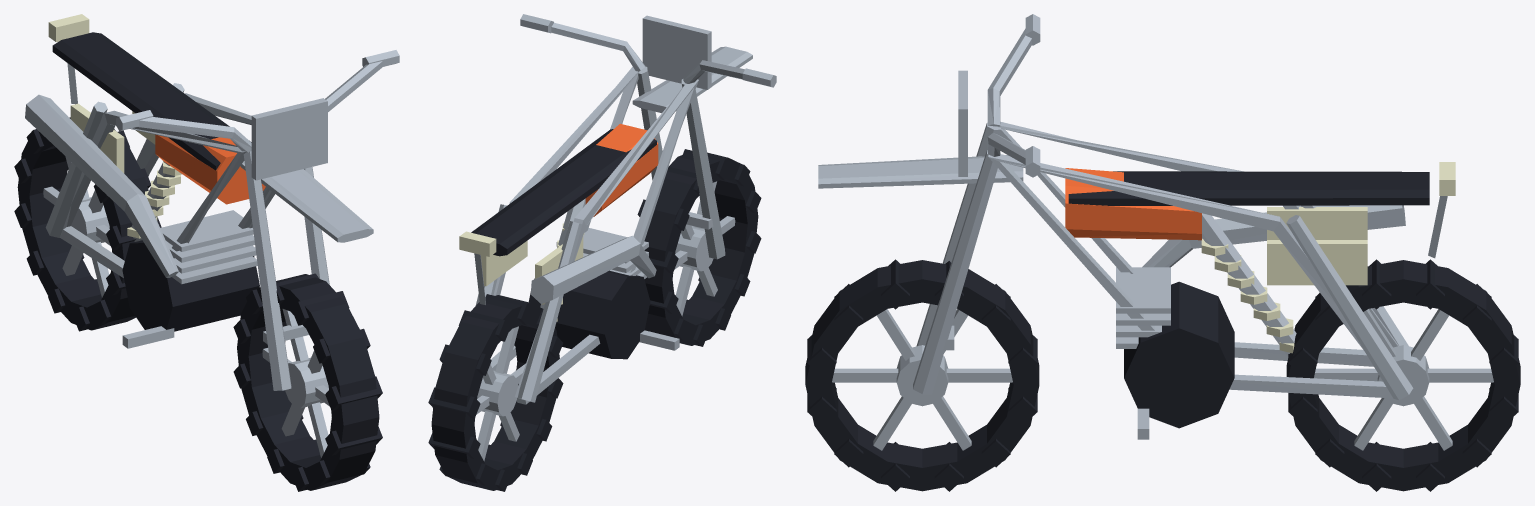
Rendered from dirt-bike.glb.
The picture shows the model from 3 angles, left to right: view 1: azimuth 30°, elevation 25°; view 2: azimuth 150°, elevation 25°; view 3: azimuth 270°, elevation 25°; orthographic projection. The views are drawn at different scales.
Visible parts, largest first — view 1: bike_body, wheel_front, fork_mesh, wheel_rear; view 2: bike_body, wheel_rear, wheel_front, fork_mesh; view 3: bike_body, wheel_front, wheel_rear, fork_mesh.
Part boxes in pixels (x1,y1,x2,y2): bike_body: (25, 14, 274, 348); wheel_front: (233, 273, 382, 491); fork_mesh: (116, 50, 399, 390); wheel_rear: (14, 117, 161, 331); bike_body: (459, 66, 698, 404); wheel_rear: (428, 294, 563, 491); wheel_front: (637, 149, 761, 346); fork_mesh: (520, 14, 776, 259); bike_body: (988, 121, 1455, 439); wheel_front: (805, 259, 1039, 491); wheel_rear: (1286, 259, 1520, 491); fork_mesh: (818, 14, 1040, 394).
Bounding box in the file's own units: 1.08 × 1.34 × 2.2.
